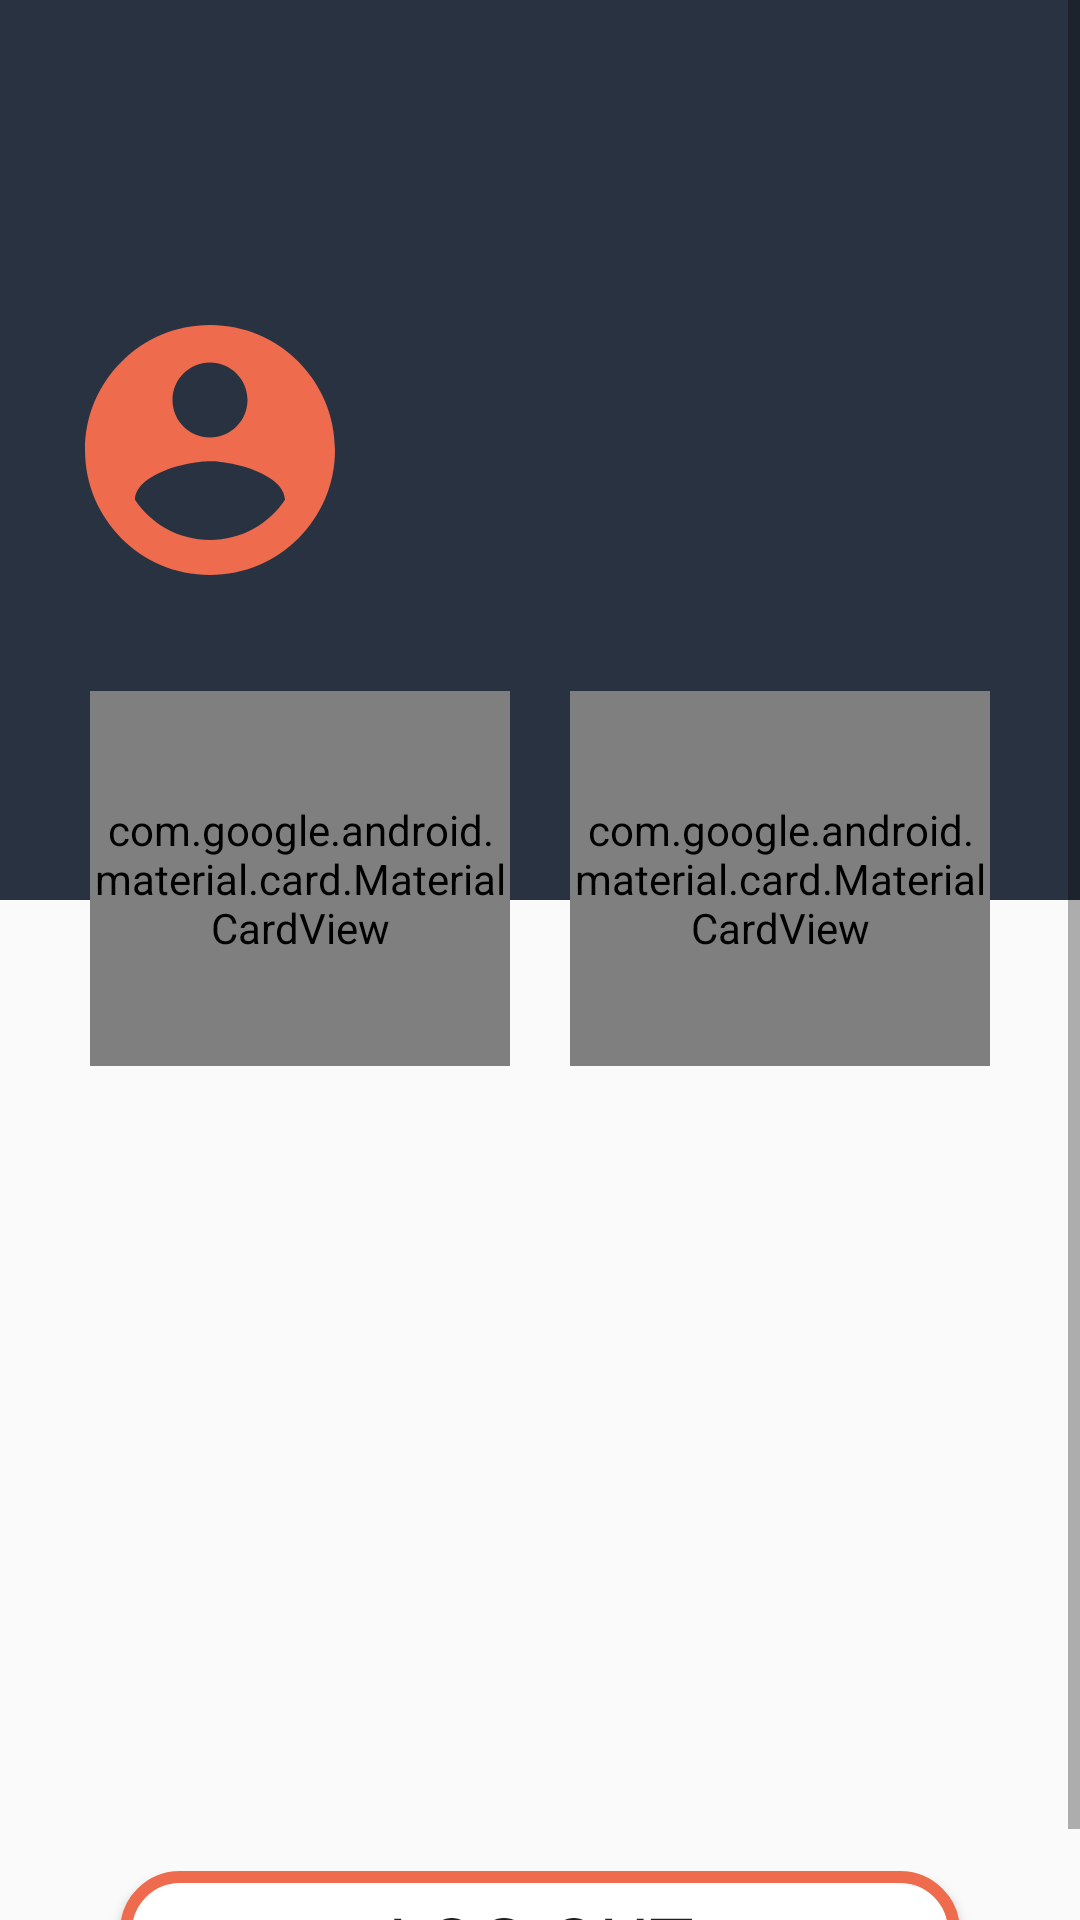

Where icons sit on this 1080×1920 app screen, as box(x1, y1, x2, y2):
account circle: box(85, 325, 335, 575)
